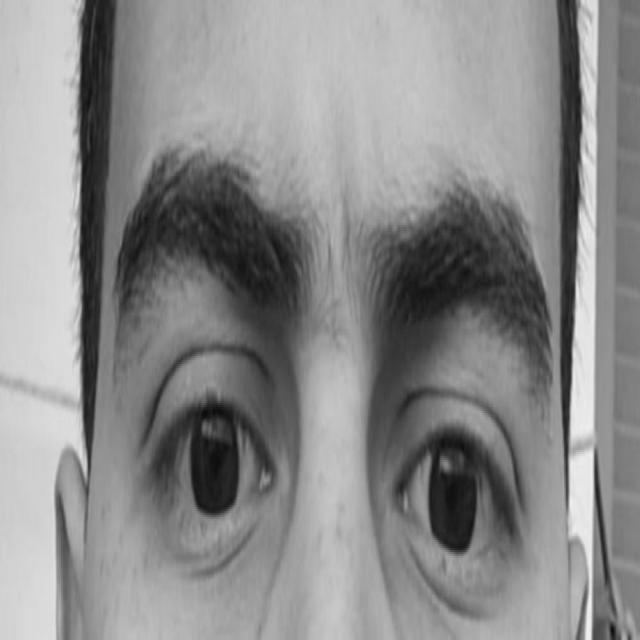real: (125, 240, 545, 616)
